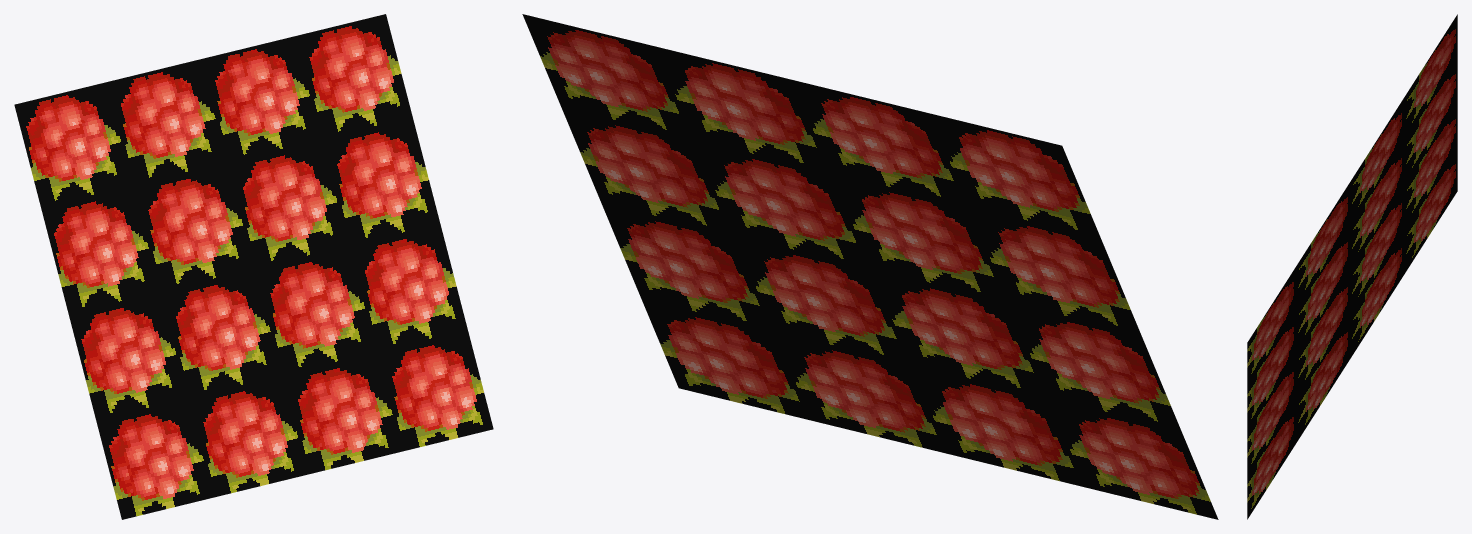
Rendered from 0656mi_ras.gltf.
3 renders of one model, left to right at view 1: azimuth 30°, elevation 25°; view 2: azimuth 150°, elevation 25°; view 3: azimuth 270°, elevation 25°, orthographic. The views are drawn at different scales.
Parts seen in each view (by area): view 1: 0656mi_ras; view 2: 0656mi_ras; view 3: 0656mi_ras.
Part boxes in pixels (left/top/right/bottom): 0656mi_ras: left=14, top=14, right=493, bottom=519; 0656mi_ras: left=522, top=14, right=1218, bottom=519; 0656mi_ras: left=1247, top=14, right=1457, bottom=519.
Bounding box in the file's own units: 0.4395 × 0.3801 × 0.2205.
1 material, 1 textured.
